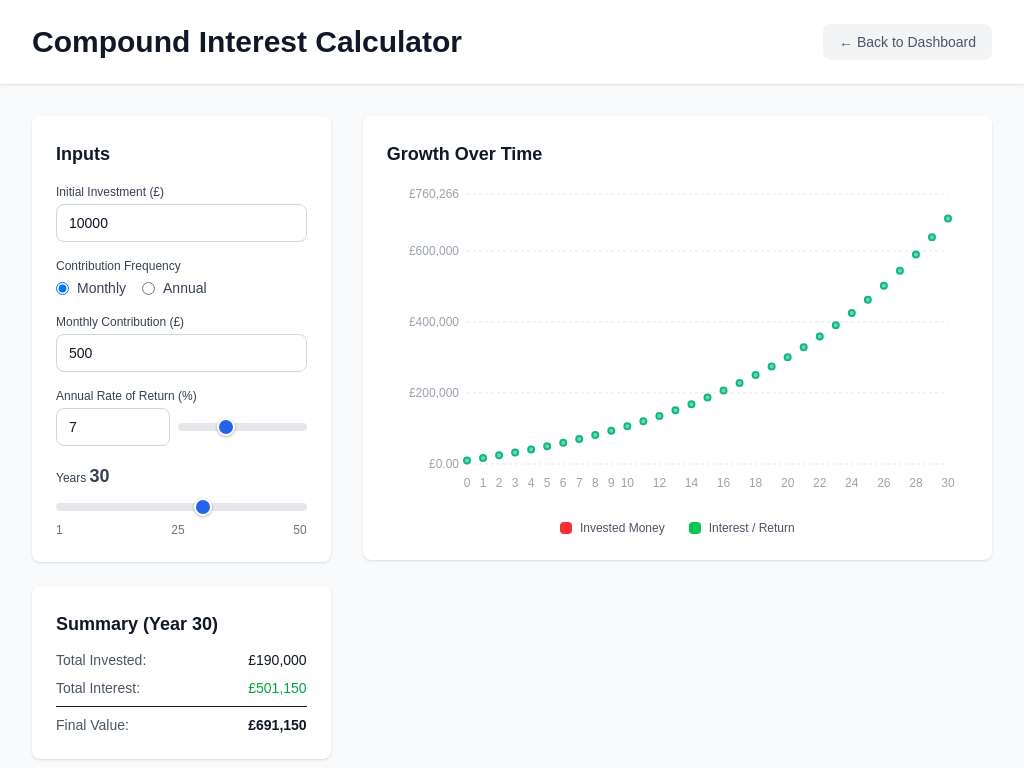
Test case: CompoundInterestCalculator › switches contribution frequency from monthly to annual
Click the radio button labelled "Annual".
click(148, 288)  # box [142, 282, 155, 294]
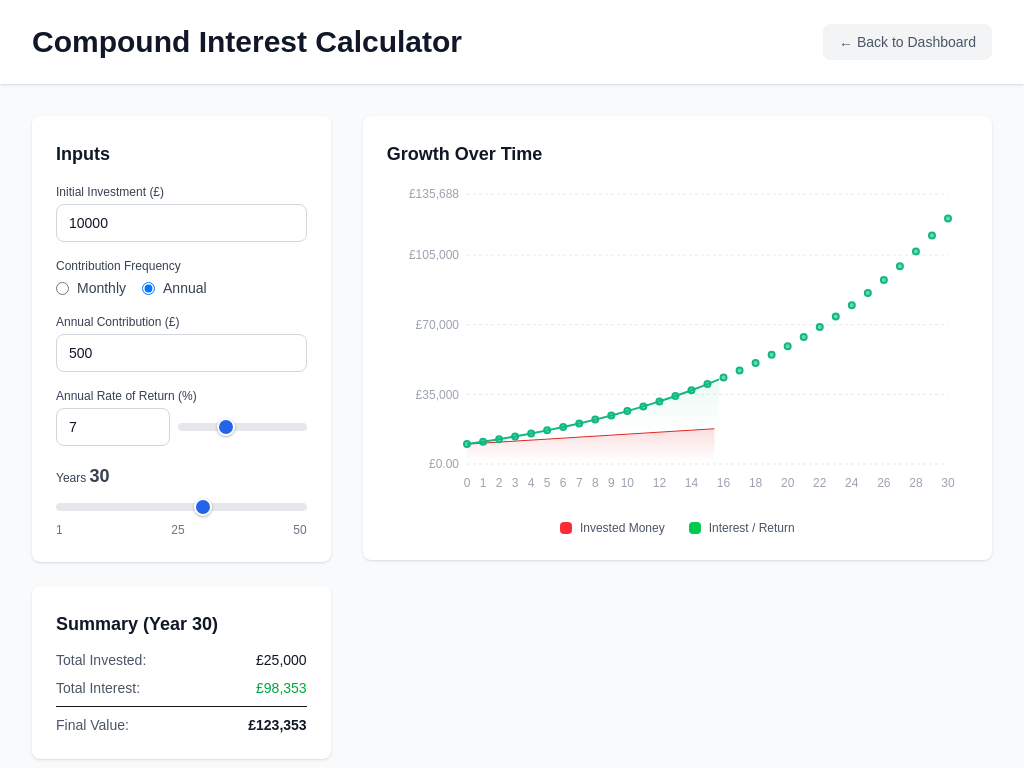
Result: the radio button labelled "Annual" is checked at [142, 282, 155, 294]
Result: the text "Annual Contribution (£)" is shown at [56, 315, 179, 329]
